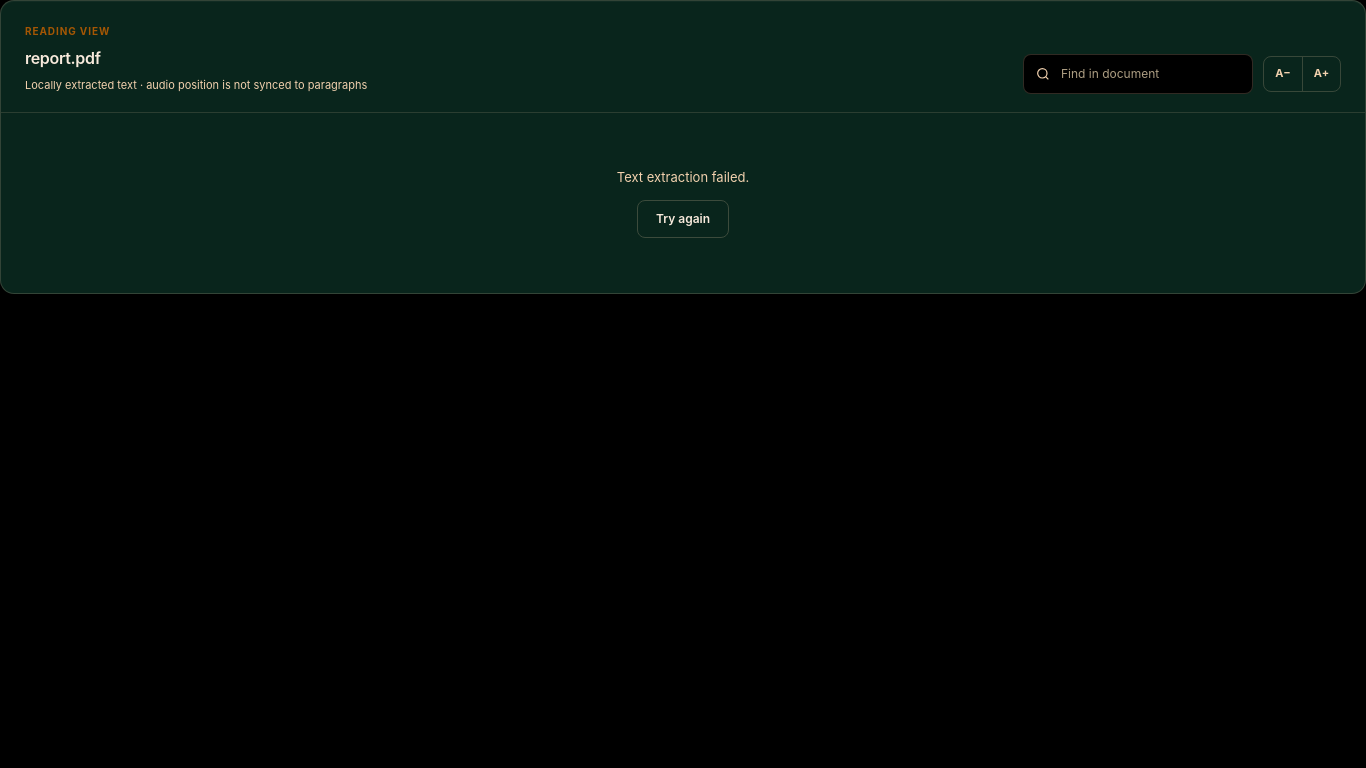
Test case: ReaderPanel › offers retry when text extraction fails
The width and height of the screenshot is (1366, 768).
Expected: the message shows "Text extraction failed.", [617,169,749,185]
What coordinates should you click on to do the following:
click the button "Try again"
I would click on:
 (683, 219)
Its box is [637,200,729,238].
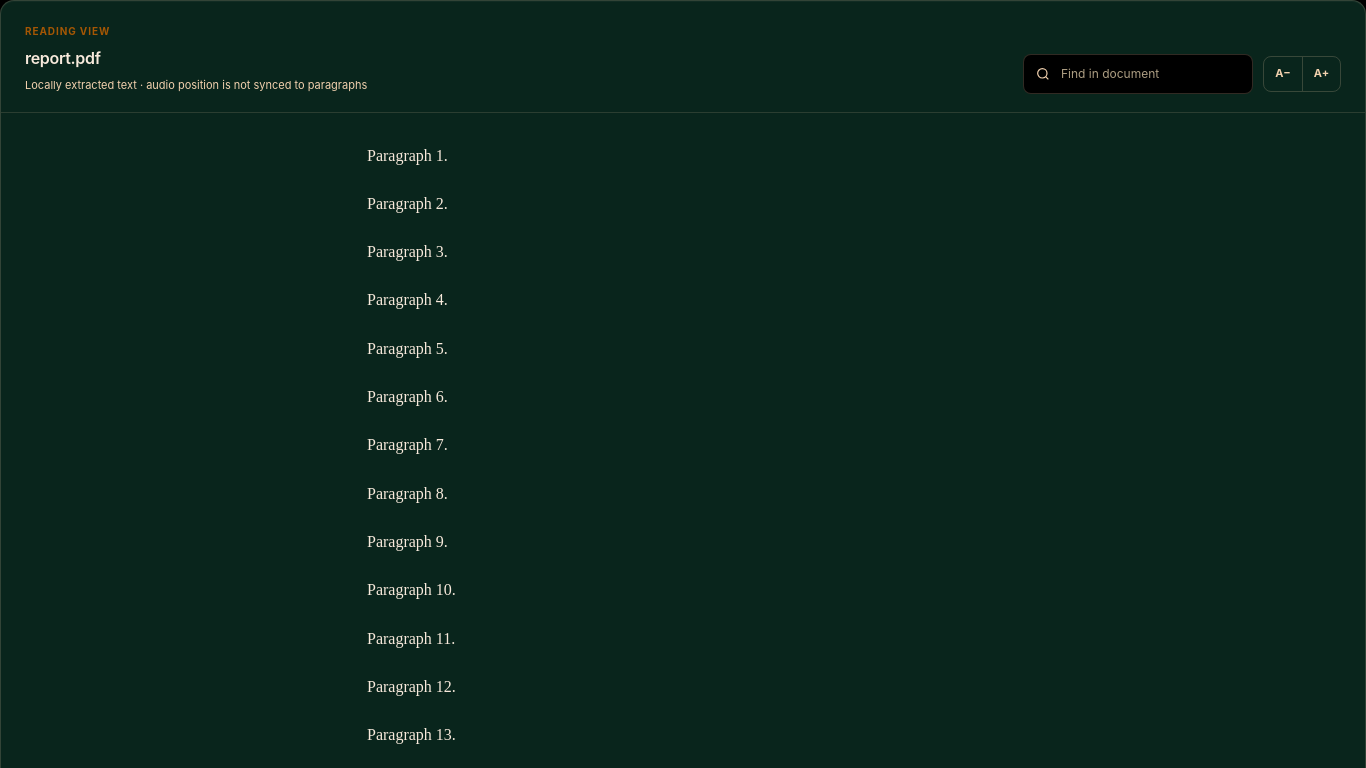
Expected: the text "Paragraph 1." is shown, [367,146,448,164]
